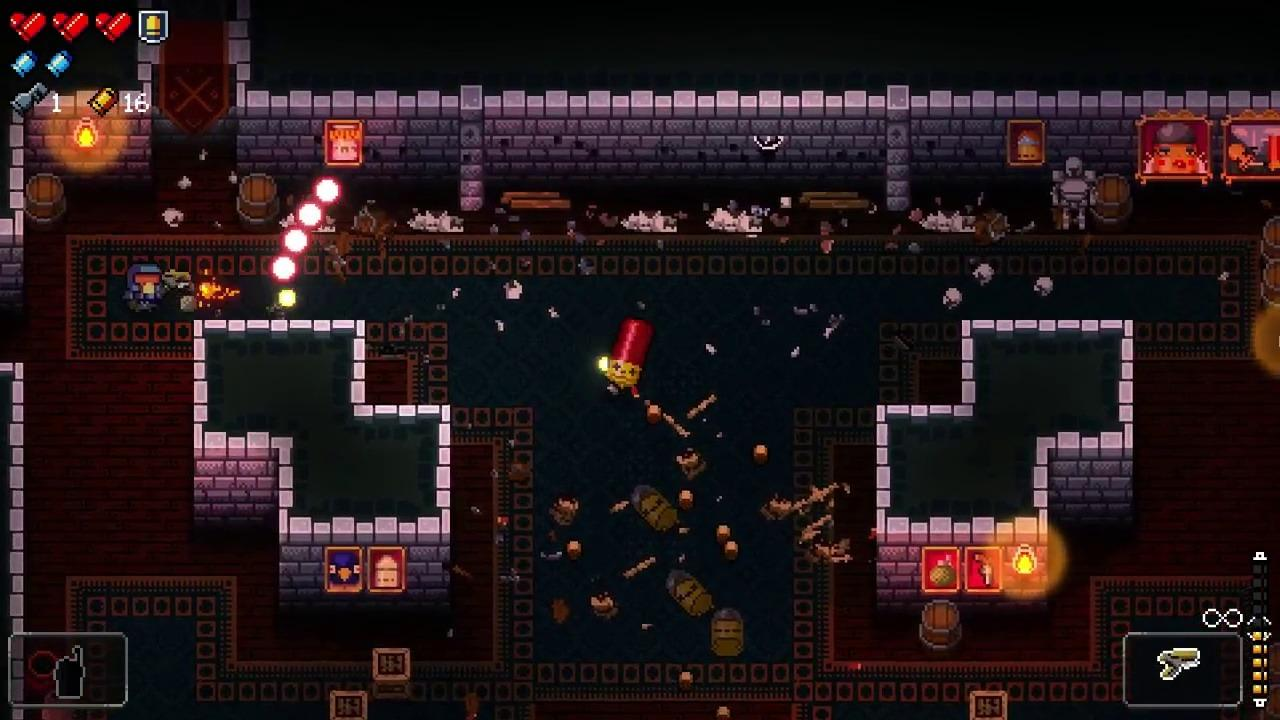blocked_door: (151, 18, 237, 146)
bullet: (312, 175, 343, 204), (270, 253, 299, 283), (297, 200, 325, 230), (282, 226, 309, 255)
dead_bullet_kin: (631, 485, 681, 533), (667, 569, 715, 617), (712, 607, 745, 657)
player: (126, 261, 165, 312)
red_shotgun_kin: (605, 317, 655, 390)
